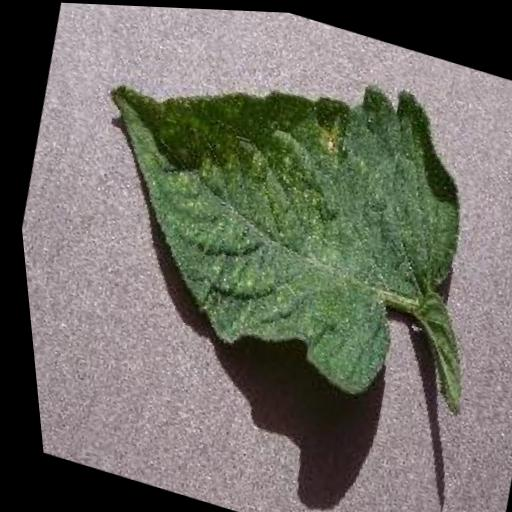Spider Mites: (45, 2, 499, 416)
